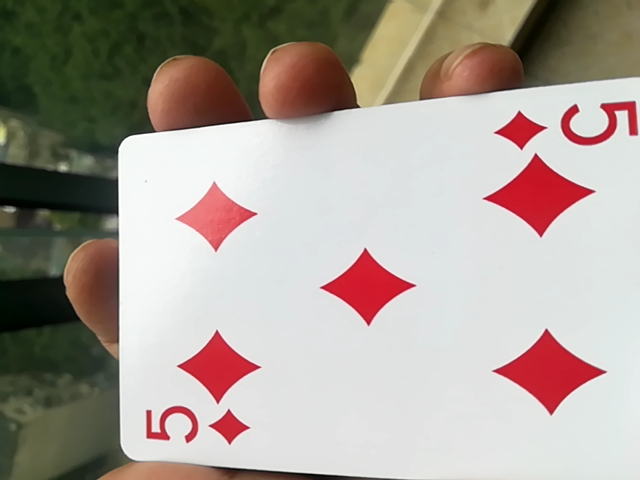fk 5: (102, 85, 639, 480)
